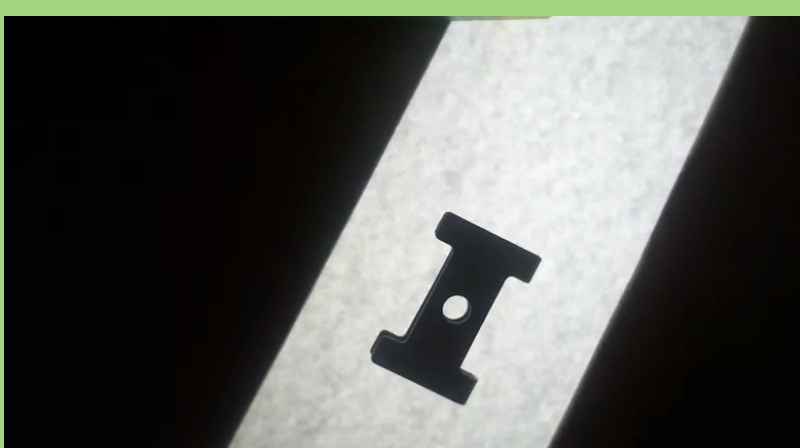O002: (367, 208, 544, 405)
